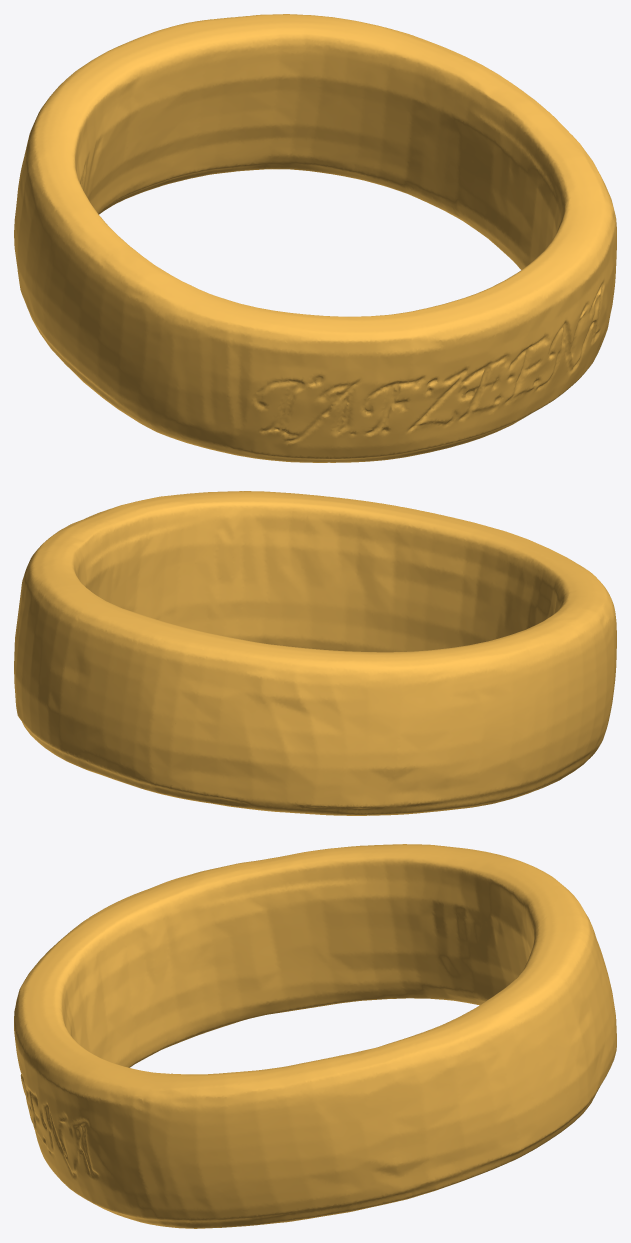
The model's file is rihab-ring.glb.
The picture shows the model from 3 angles, top to bottom: view 1: azimuth 30°, elevation 25°; view 2: azimuth 150°, elevation 25°; view 3: azimuth 270°, elevation 25°; orthographic projection. The views are drawn at different scales.
Size of the model in its own units: 0.8887 by 0.3816 by 0.9417.
1 material, 1 textured.
